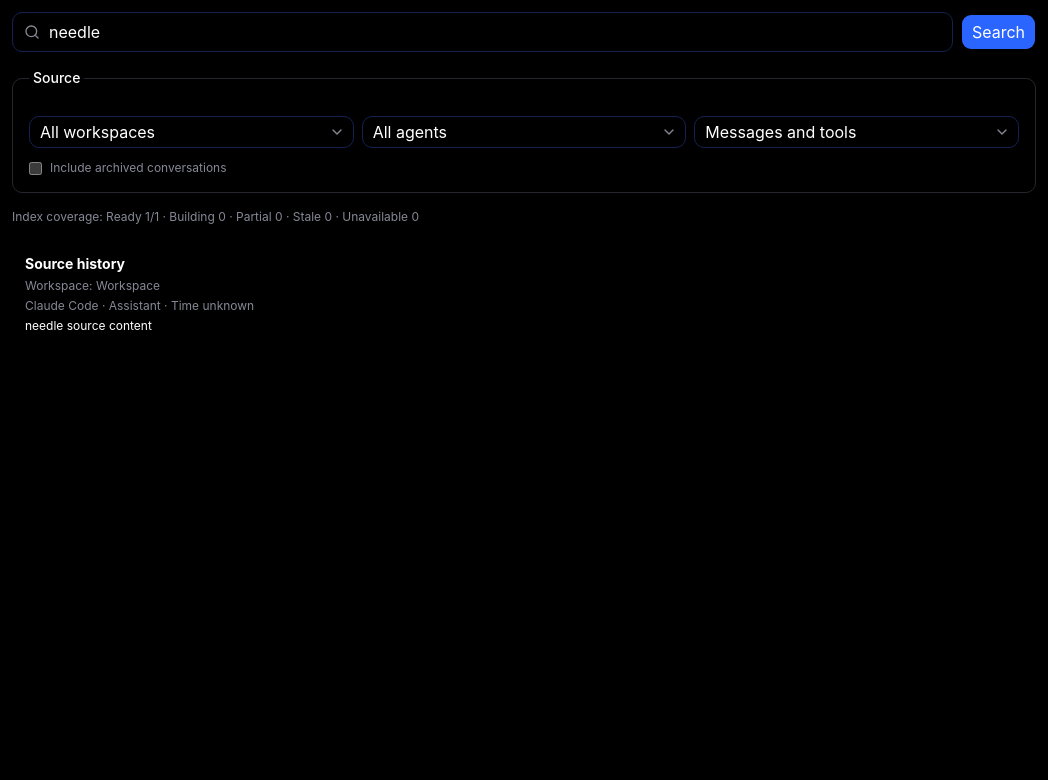
Scenario: explicit history session opening › keeps reference selection independent of navigation and the current draft
What coordinates should you click on to do the following:
click the button "Source history"
I would click on:
 (75, 264)
Its box is top-left (12, 241), bottom-right (1036, 347).
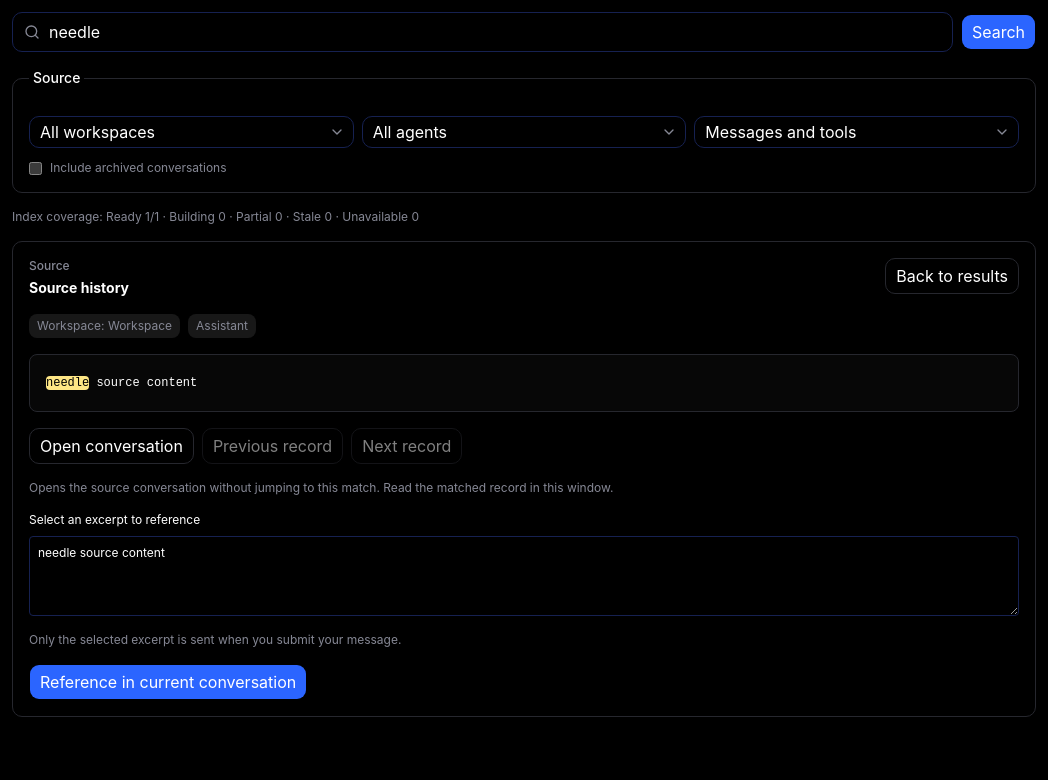
Expected: the element "Source" is shown, top-left (12, 241), bottom-right (1036, 717)
What coordinates should you click on to do the following:
click the button "Reference in current conversation"
I would click on:
 (168, 682)
Its box is top-left (29, 664), bottom-right (307, 700).
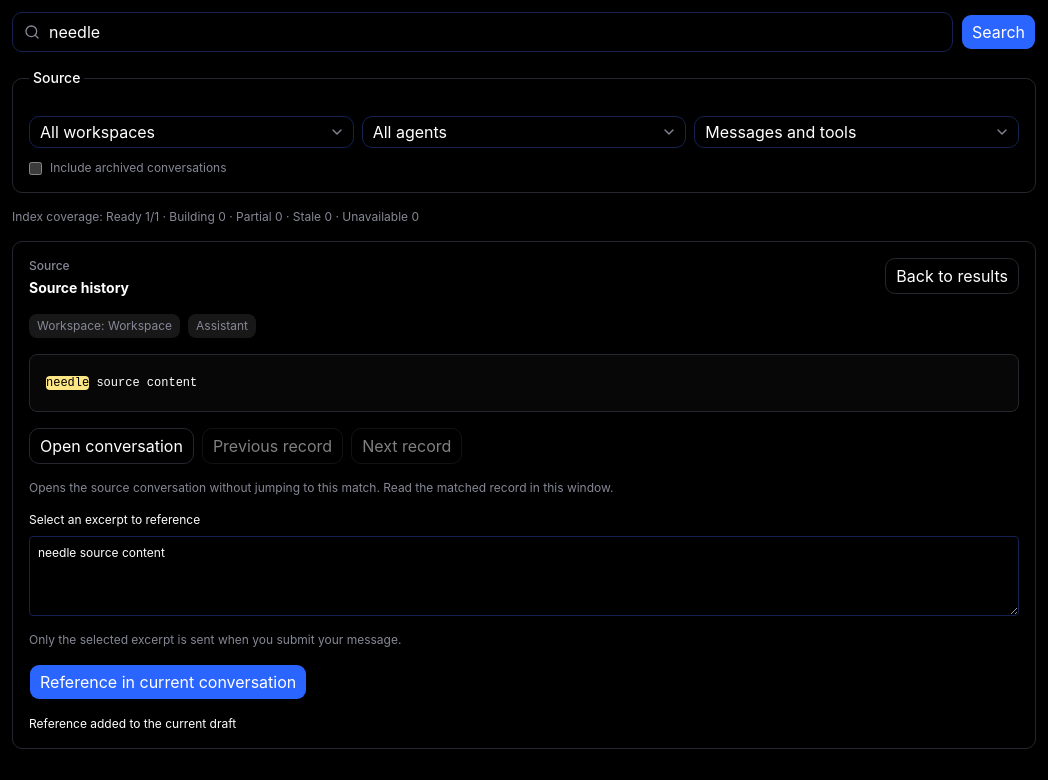
Expected: the text "Reference added to the current draft" is shown, top-left (29, 716), bottom-right (236, 731)
